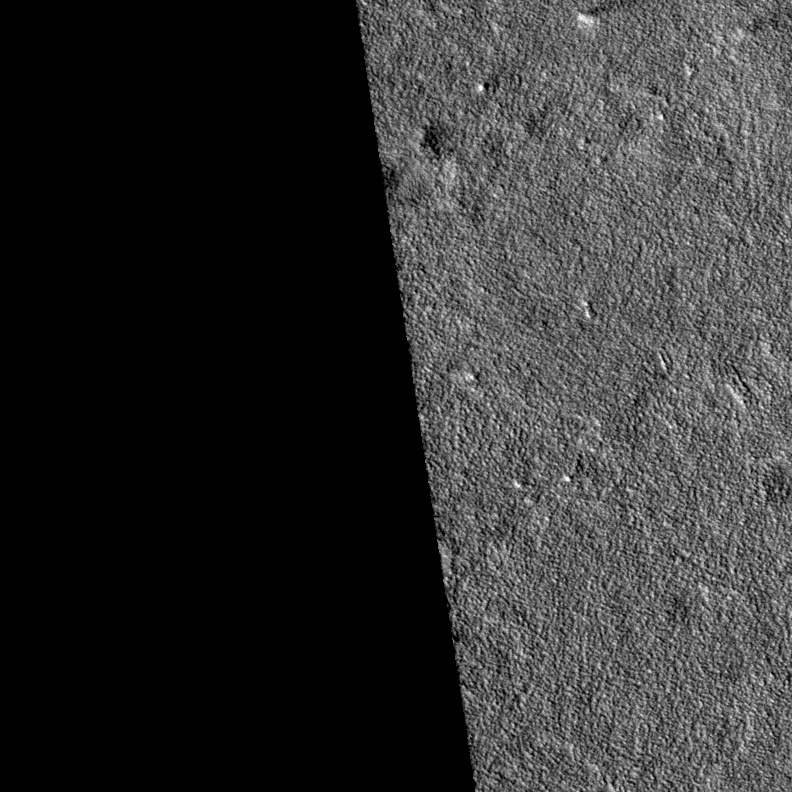dust_devil: (576, 1, 646, 30)
